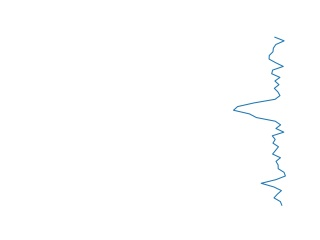interdistributaryEstuary: (228, 37, 293, 207)
